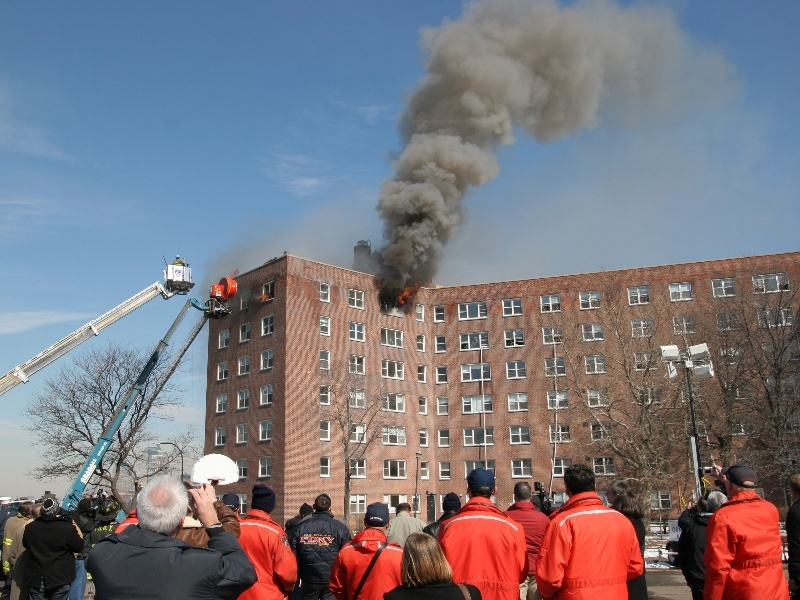smoke: (378, 1, 583, 276)
